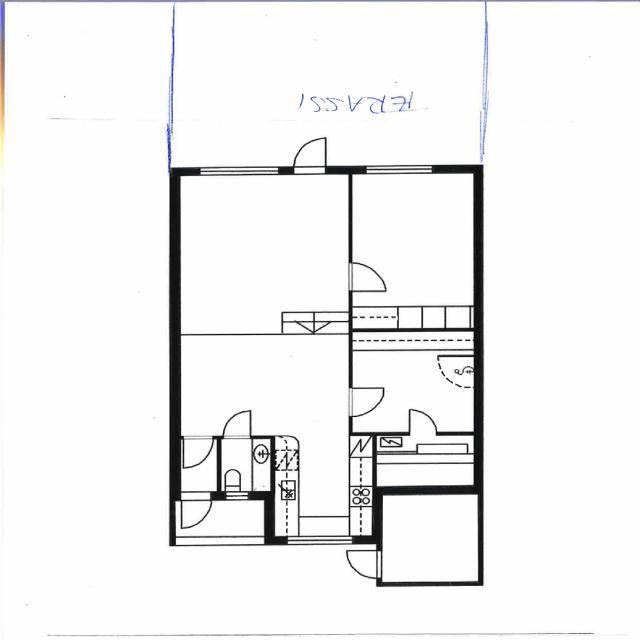door: (294, 136, 326, 173), (181, 491, 212, 529), (348, 262, 385, 292), (348, 388, 384, 416), (346, 551, 382, 578), (183, 436, 213, 466), (409, 407, 437, 436), (223, 411, 250, 440)
